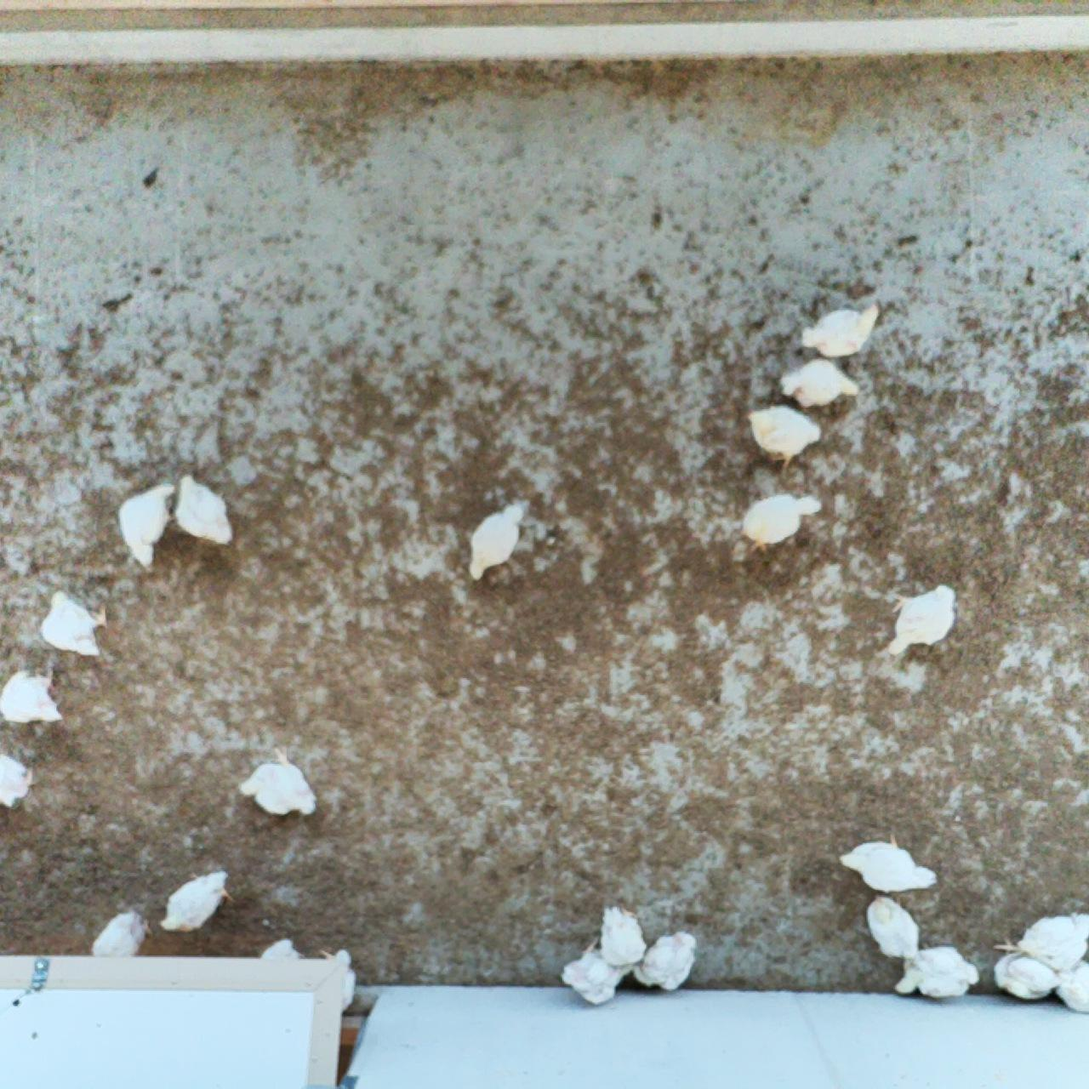chicken: (834, 828, 941, 897), (236, 742, 323, 819), (990, 911, 1089, 972), (886, 582, 958, 663), (742, 401, 824, 472), (116, 480, 178, 570), (557, 936, 634, 1008), (158, 868, 238, 937), (38, 585, 110, 659), (800, 300, 883, 364), (738, 492, 823, 554), (894, 943, 984, 1001), (173, 470, 237, 549), (776, 355, 864, 410), (633, 929, 699, 995), (862, 892, 922, 964), (0, 665, 69, 723), (992, 947, 1063, 1002), (89, 903, 155, 961), (598, 903, 650, 969), (317, 945, 358, 1016), (0, 753, 38, 811), (1054, 956, 1089, 1012), (256, 936, 309, 963)
